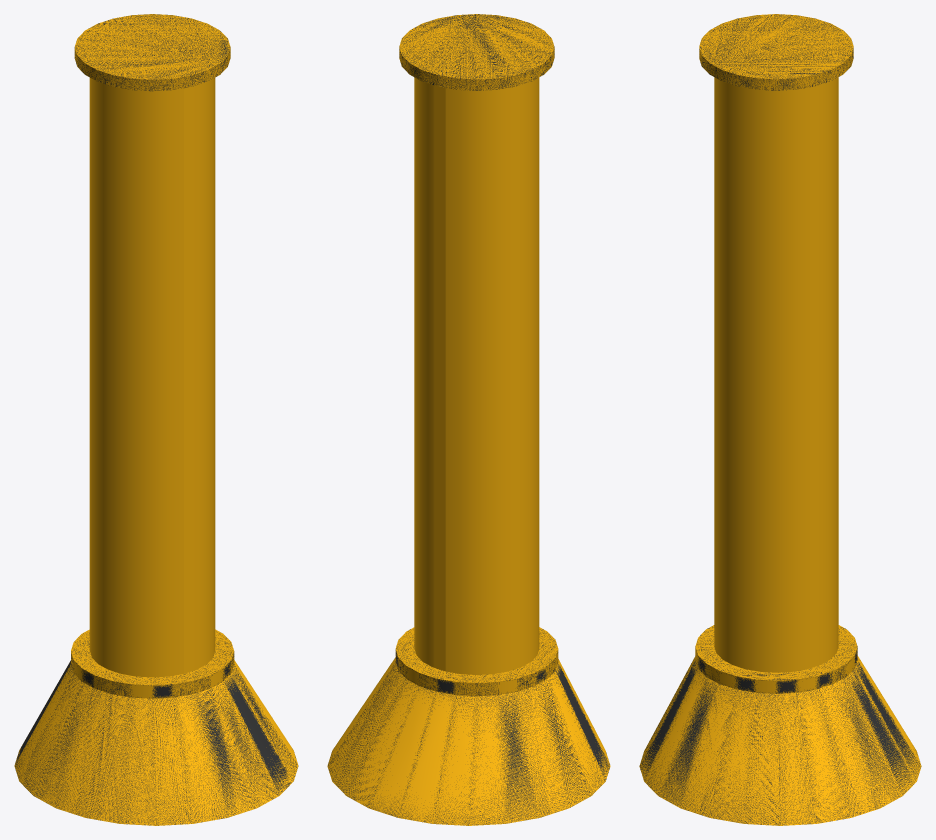
Rendered from boru_2.fbx.
3 renders of one model, left to right at view 1: azimuth 30°, elevation 25°; view 2: azimuth 150°, elevation 25°; view 3: azimuth 270°, elevation 25°, orthographic.
Visible parts, largest first — view 1: Group1; view 2: Group1; view 3: Group1.
Boxes of the visible parts, bbox=[...] form: Group1: bbox=[14, 14, 298, 825]; Group1: bbox=[327, 14, 610, 825]; Group1: bbox=[639, 14, 921, 825].
Bounding box in the file's own units: 49.39 × 138 × 49.39.
